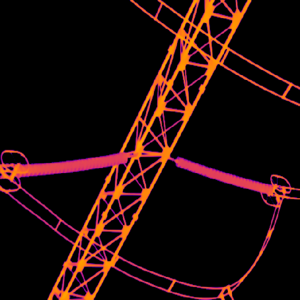insulator: (172, 153, 273, 196), (12, 152, 127, 178)
